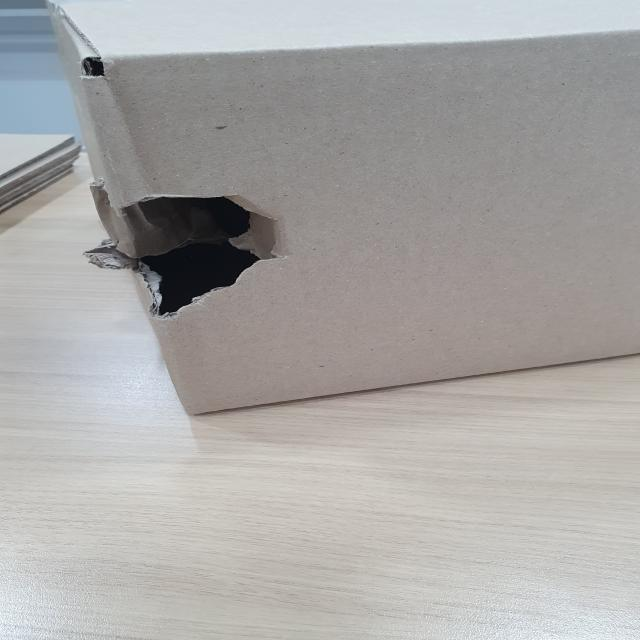hole: (92, 182, 308, 328)
